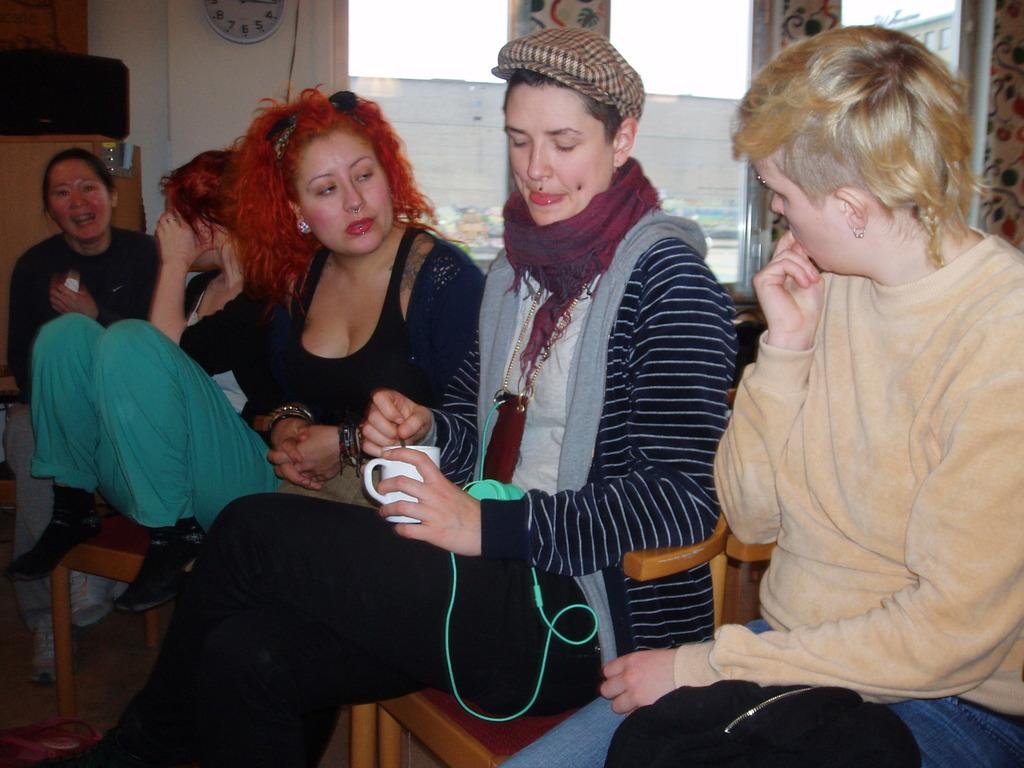Hat: (488, 25, 646, 119)
